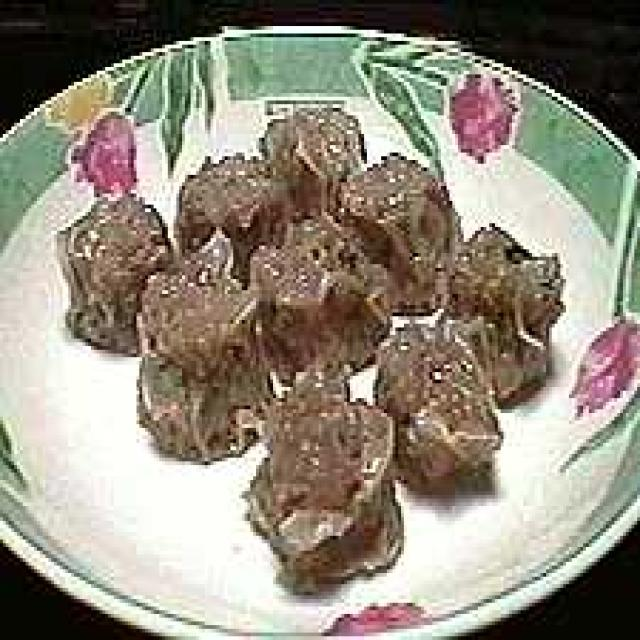带馅早点: (57, 100, 574, 577)
